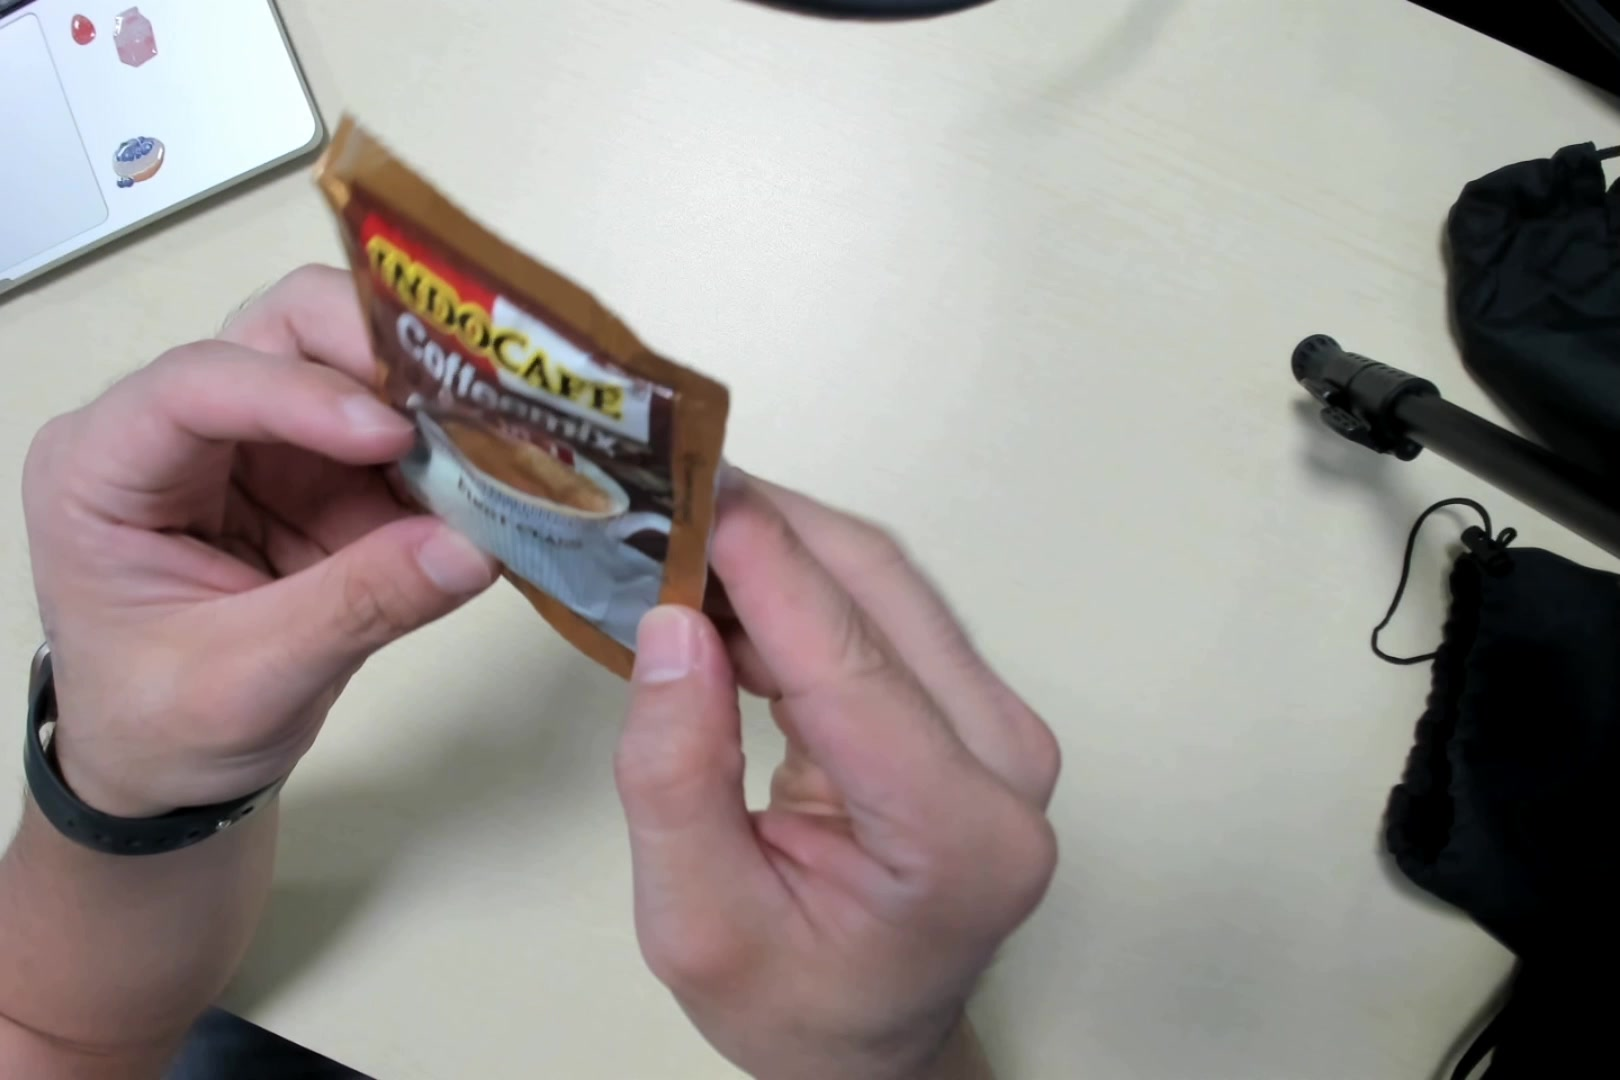Coffee(Powder)_0-99g_NonHalal_NonHealthy: (328, 119, 722, 683)
